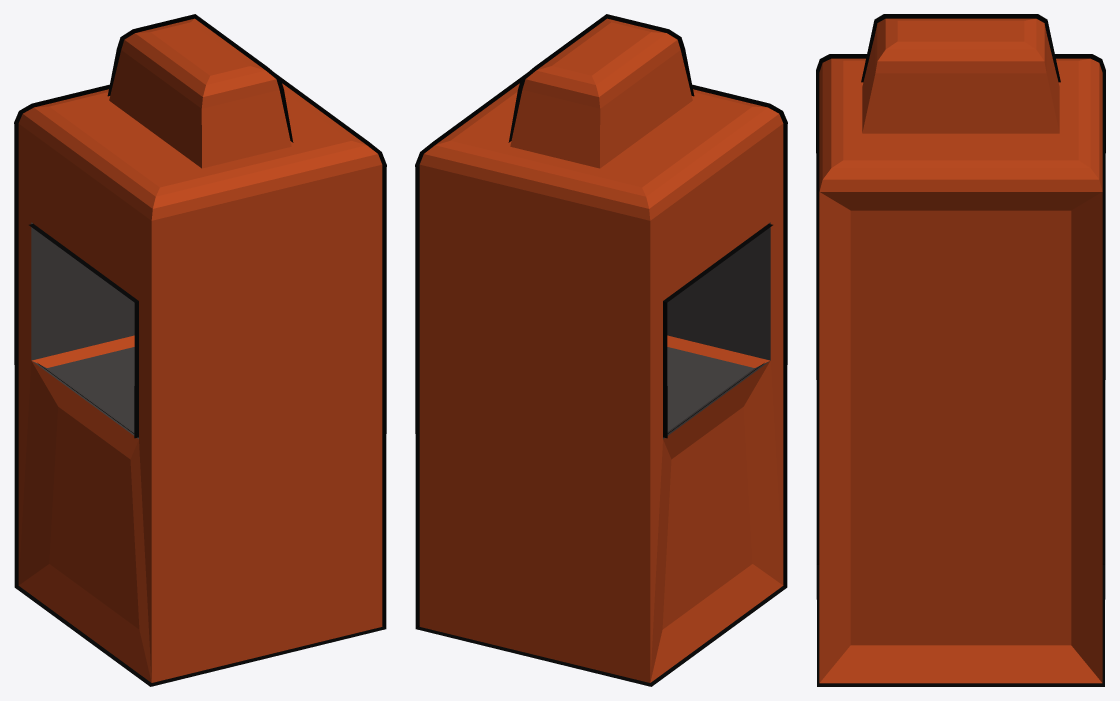
File: MaquinadeRefri.fbx
3 views of the same model, side by side, from view 1: azimuth 30°, elevation 25°; view 2: azimuth 150°, elevation 25°; view 3: azimuth 270°, elevation 25° (orthographic). The views are drawn at different scales.
Visible parts, largest first — view 1: maquina de refri, backface maquina de refri; view 2: maquina de refri, backface maquina de refri; view 3: maquina de refri, backface maquina de refri.
Part boxes in pixels (<box>): maquina de refri: <box>18,18,382,682</box>; backface maquina de refri: <box>14,14,386,686</box>; maquina de refri: <box>419,18,783,682</box>; backface maquina de refri: <box>415,14,787,686</box>; maquina de refri: <box>819,18,1102,683</box>; backface maquina de refri: <box>816,14,1105,686</box>.
Bounding box in the file's own units: 0.8843 × 0.8802 × 2.01.
Materials: 2 (1 with a texture image).
